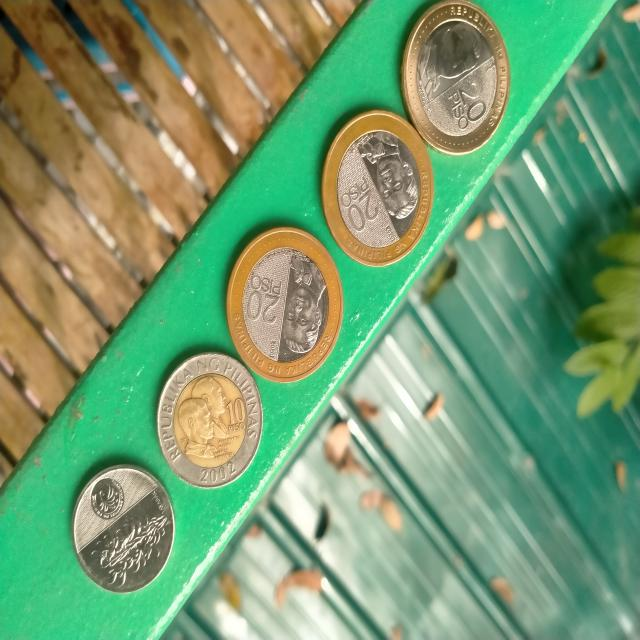10_Old_Front: (218, 380, 255, 444)
20_New_Front: (245, 266, 290, 324), (338, 177, 378, 230)
5_New_Back: (88, 506, 169, 588)
